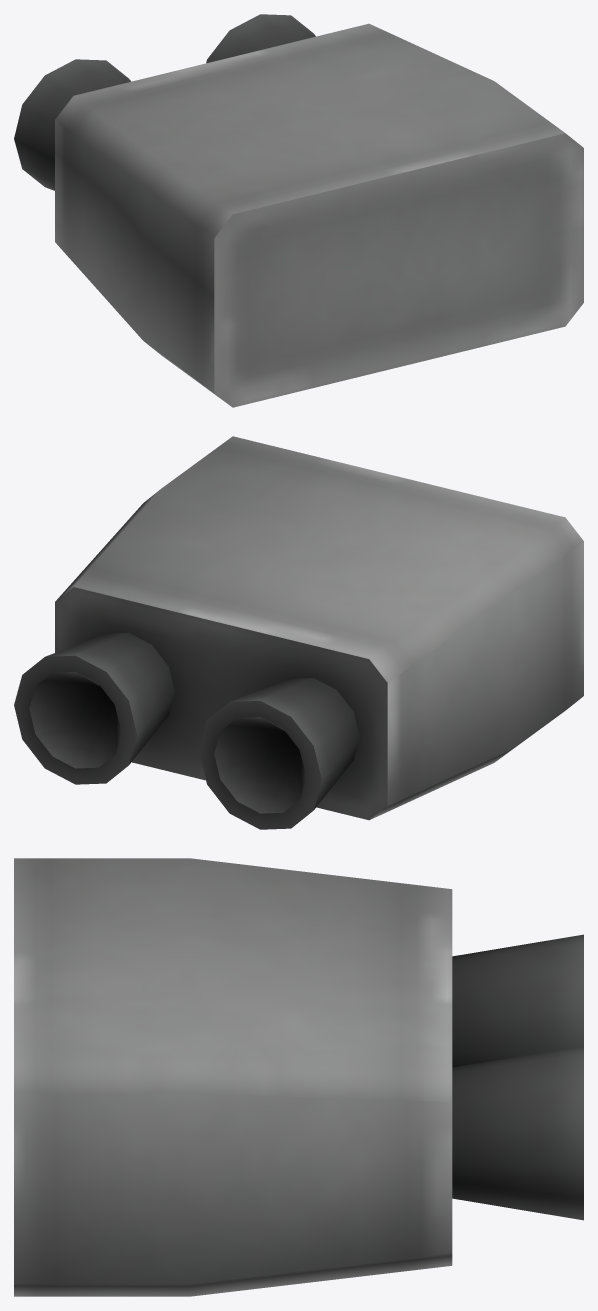
Rendered from octans_moe_linear_srf_1.obj.
3 renders of one model, top to bottom at view 1: azimuth 30°, elevation 25°; view 2: azimuth 150°, elevation 25°; view 3: azimuth 270°, elevation 25°, orthographic. The views are drawn at different scales.
Visible parts, largest first — view 1: mesh; view 2: mesh; view 3: mesh.
Boxes of the visible parts, box(x1,y1,x2,y2) form: mesh: box(14, 14, 583, 407); mesh: box(14, 436, 583, 829); mesh: box(14, 858, 583, 1296).
Bounding box in the file's own units: 0.15 × 0.075 × 0.1625.
1 material, 1 textured.
